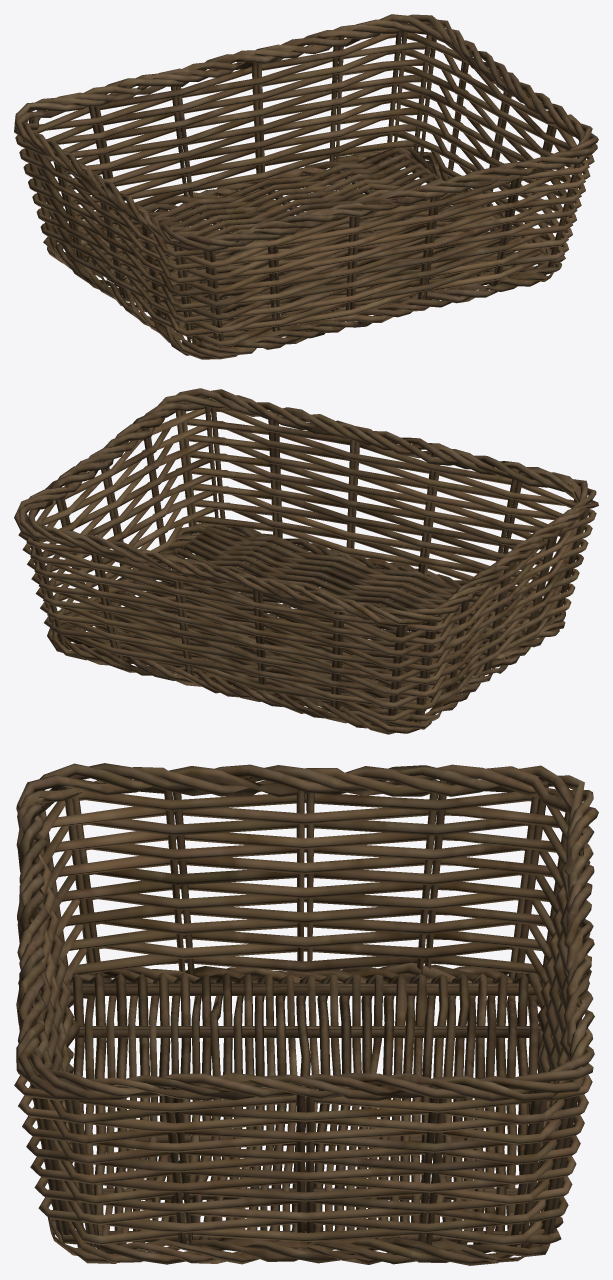
The model's file is wicker_basket_01.glb.
3 renders of one model, top to bottom at view 1: azimuth 30°, elevation 25°; view 2: azimuth 150°, elevation 25°; view 3: azimuth 270°, elevation 25°, orthographic. The views are drawn at different scales.
Parts seen in each view (by area): view 1: wicker_basket_01; view 2: wicker_basket_01; view 3: wicker_basket_01.
Boxes of the visible parts, left/top/right/bottom form: wicker_basket_01: left=14, top=14, right=598, bottom=359; wicker_basket_01: left=14, top=388, right=598, bottom=734; wicker_basket_01: left=14, top=763, right=598, bottom=1265.
Bounding box in the file's own units: 0.3832 × 0.1174 × 0.295.
Materials: 1 (1 with a texture image).
